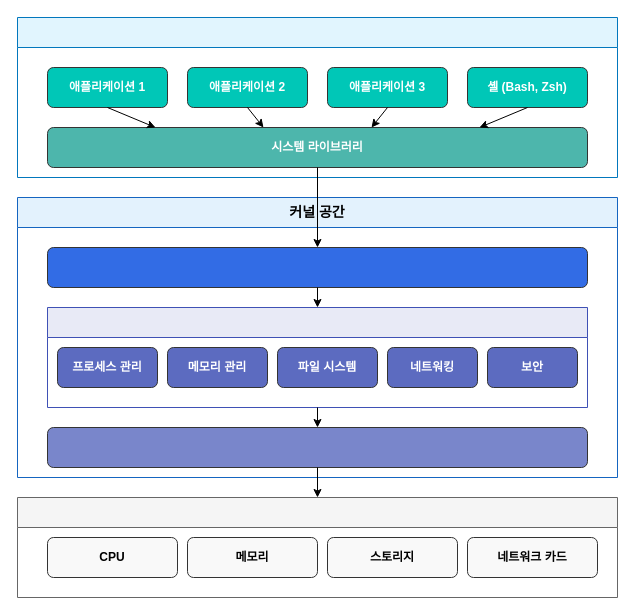
This 635x615 diagram has some shape labels left out. The shapes that lost their labels are listed below. From the top down, each one's box as (x1, y1, x2, y2) in pixels, then its label:
(16, 16, 618, 178): 사용자 공간
(46, 246, 588, 288): 시스템 호출 인터페이스
(46, 306, 588, 408): 커널 서브시스템
(46, 426, 588, 468): 장치 드라이버
(16, 496, 618, 598): 하드웨어
